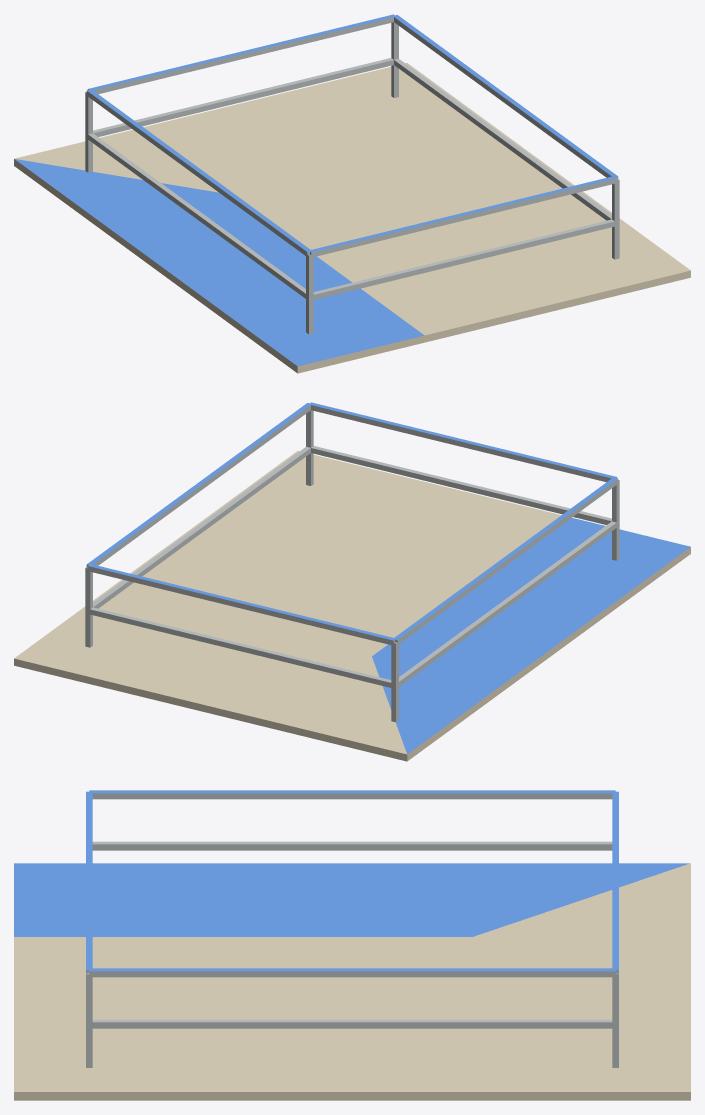
The model's file is meridian_shipyard_scaffolding.glb.
3 views of the same model, one above another, from view 1: azimuth 30°, elevation 25°; view 2: azimuth 150°, elevation 25°; view 3: azimuth 270°, elevation 25° (orthographic). The views are drawn at different scales.
Parts seen in each view (by area): view 1: hull; view 2: hull; view 3: hull.
Part boxes in pixels (x1,y1,x2,y2): hull: (14,14,690,373); hull: (14,402,690,761); hull: (14,790,690,1100).
Bounding box in the file's own units: 14.4 × 3.09 × 18.
